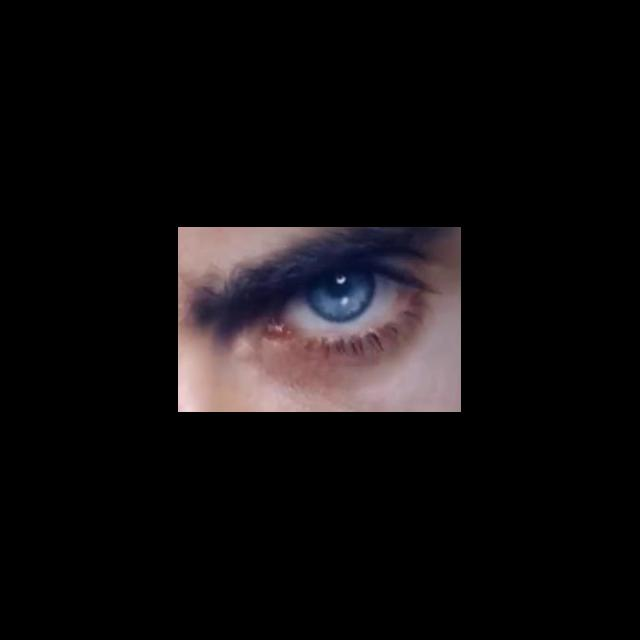eye: (281, 273, 403, 333)
iris: (307, 276, 375, 322)
